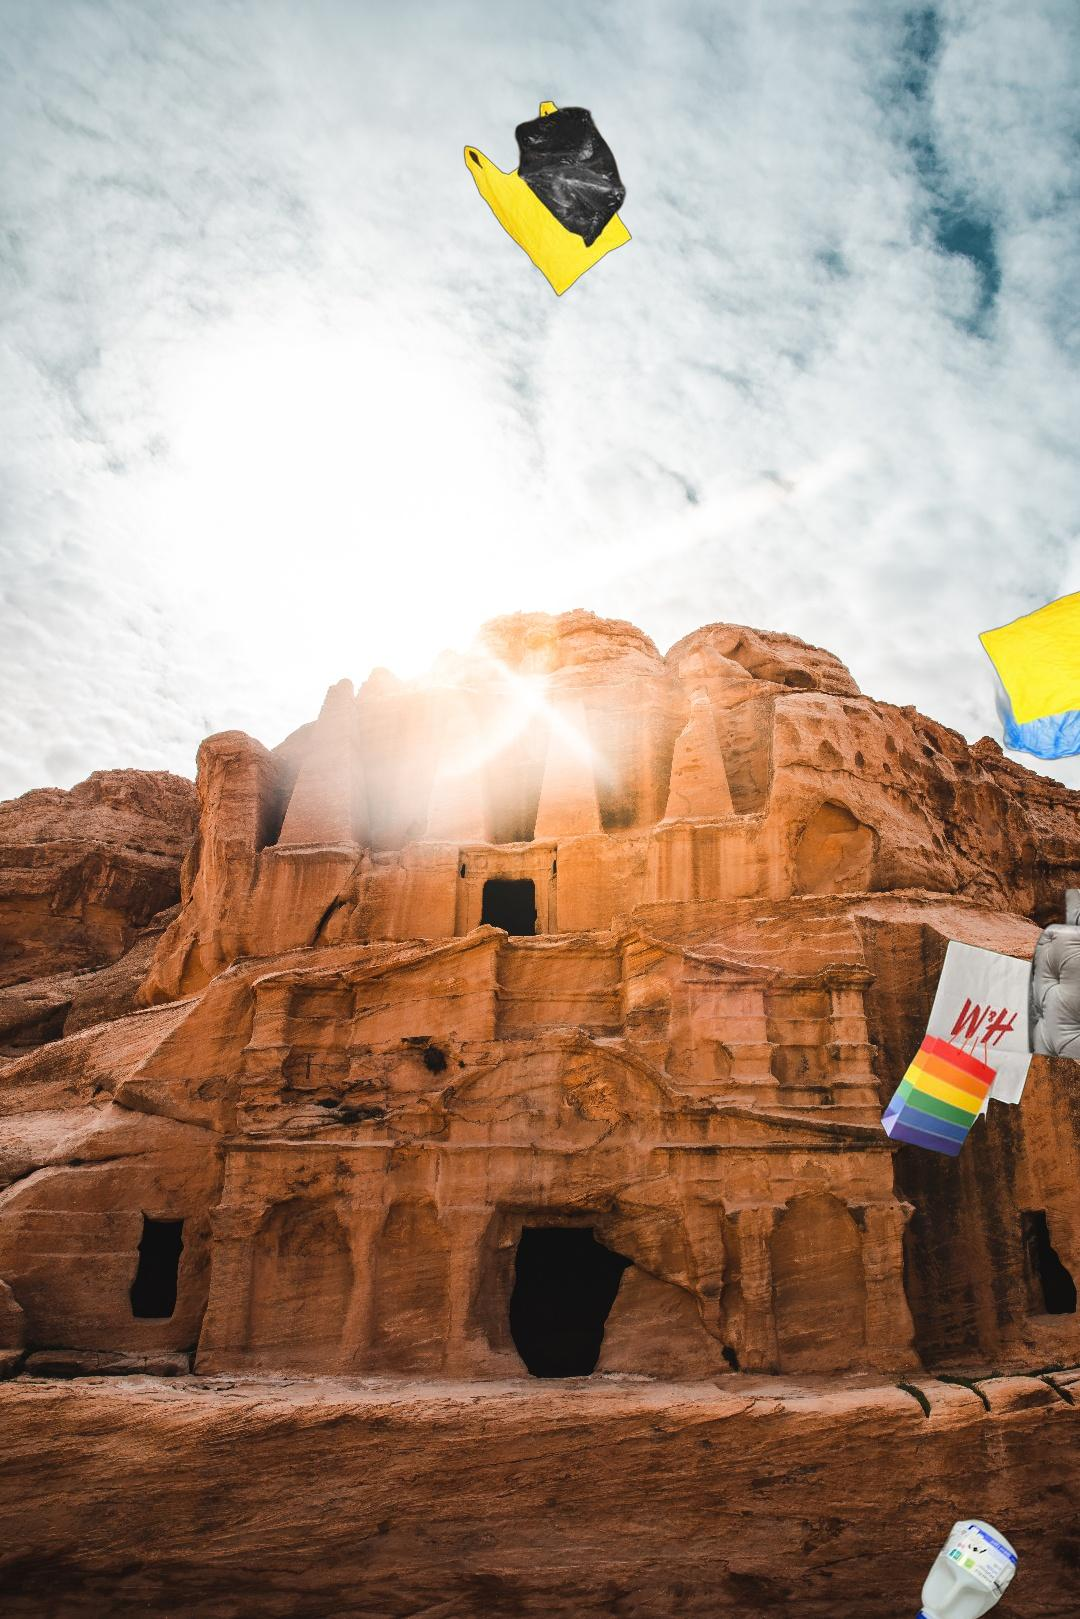paper: (1010, 888, 1080, 1273)
paper-bag: (877, 937, 1060, 1160)
plastic-bag: (460, 98, 635, 299), (976, 523, 1080, 762)
plastic-bottles: (911, 1140, 1080, 1619)
